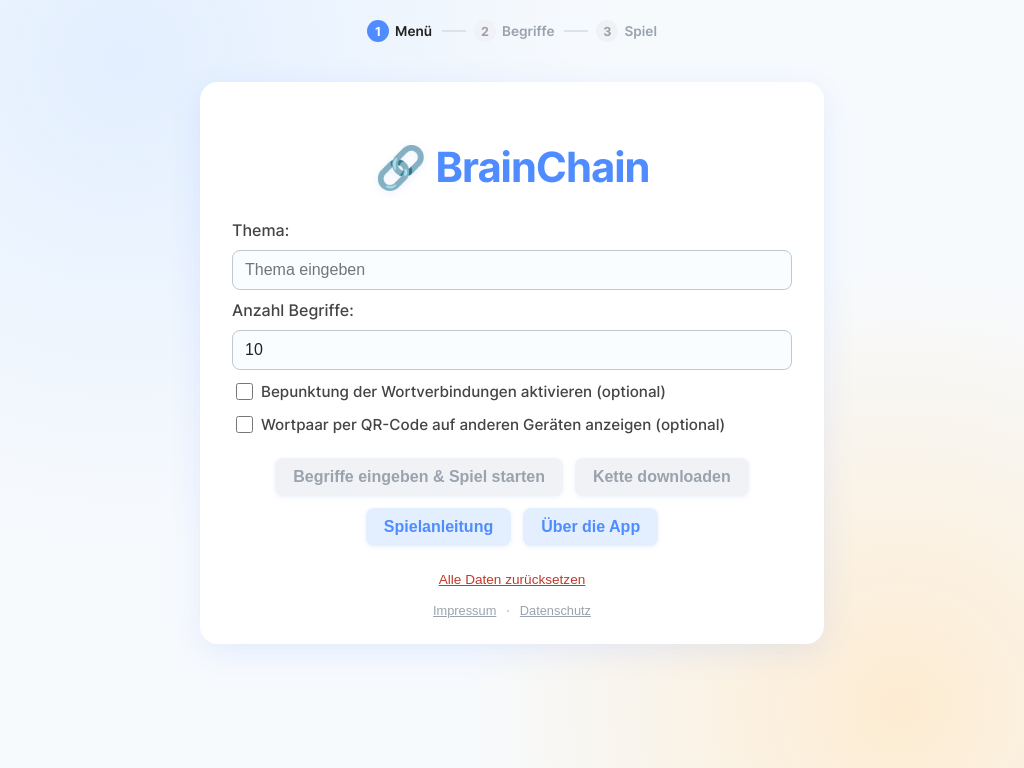
Scenario: ein Begriff wird case-insensitive als Duplikat abgewiesen und zeigt eine Fehlermeldung
Step 1. Type "Tiere" into the field with placeholder "Thema eingeben" → (512, 270), box [232,250,792,290]
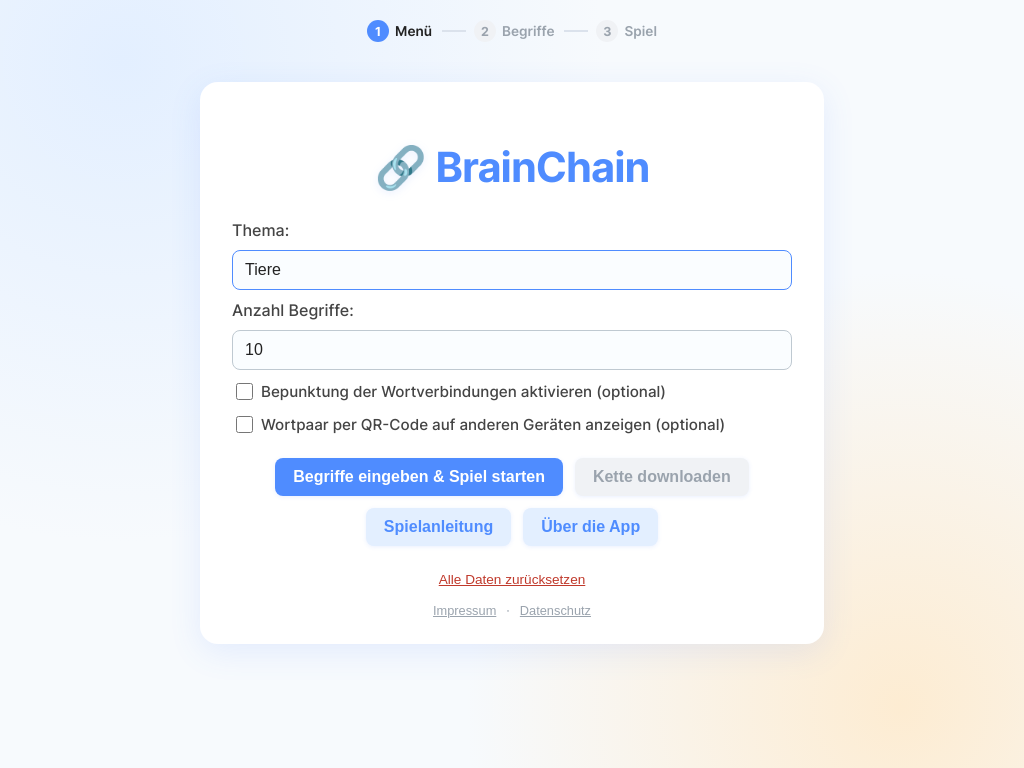
Step 2. Click the button "Begriffe eingeben & Spiel starten" → (419, 477), box [275,458,563,496]
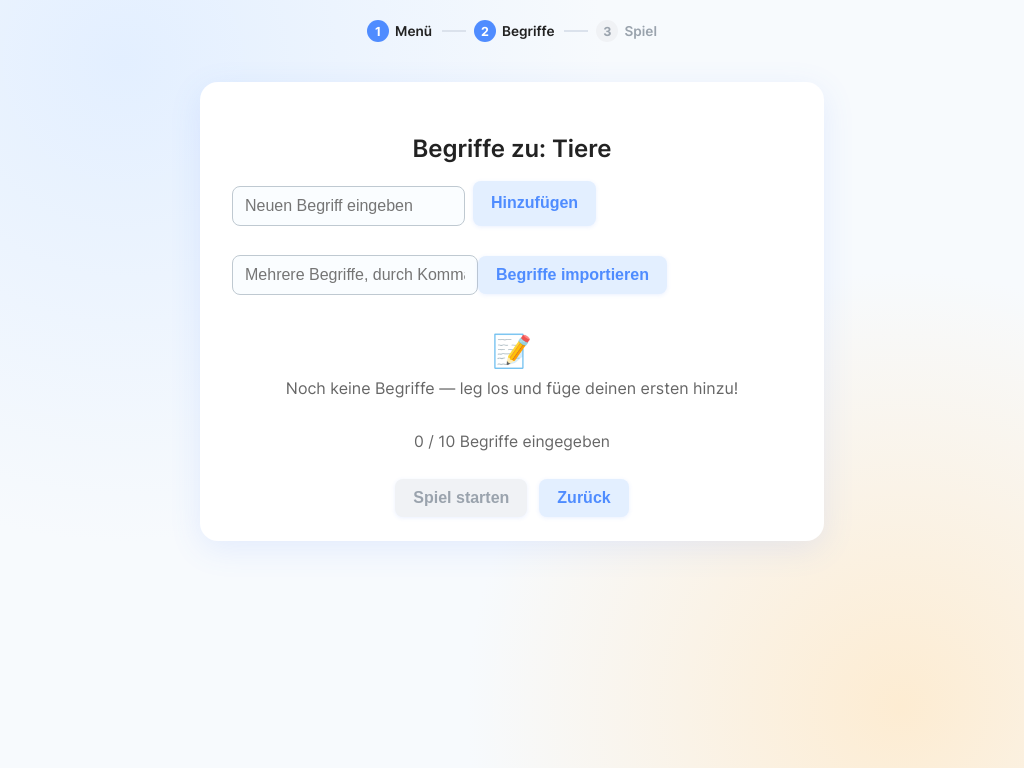
Step 3. Type "Löwe" into the field with placeholder "Neuen Begriff eingeben" → (348, 206), box [232,186,465,226]
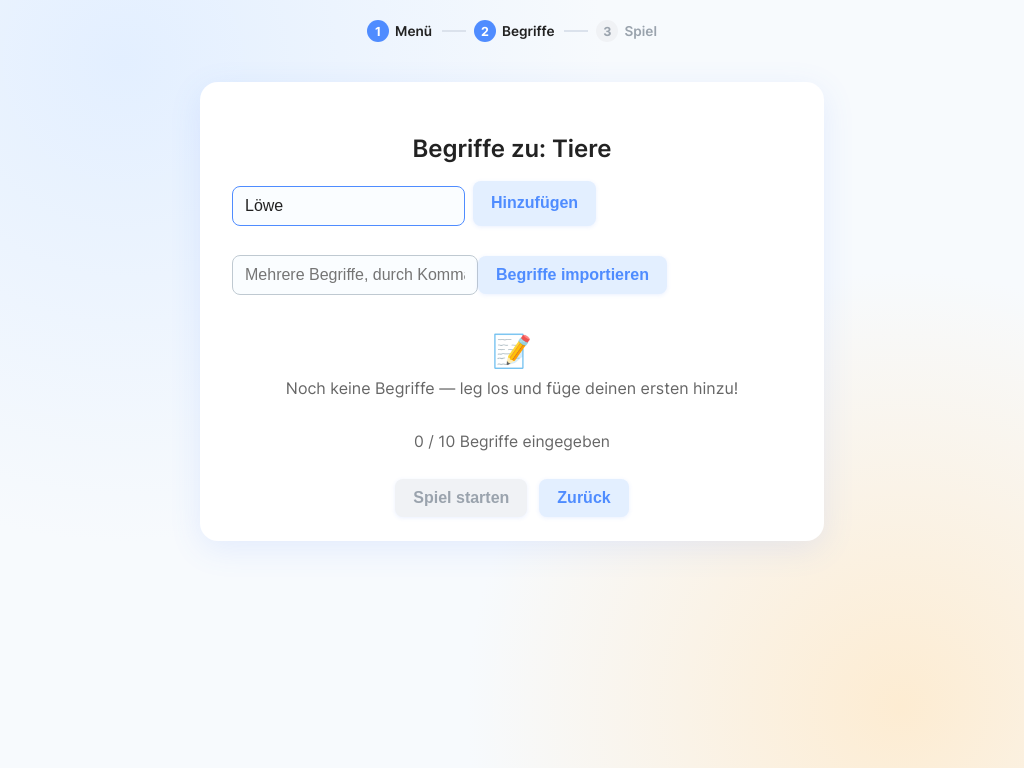
Step 4. Click the button "Hinzufügen" → (535, 203), box [473,181,596,226]
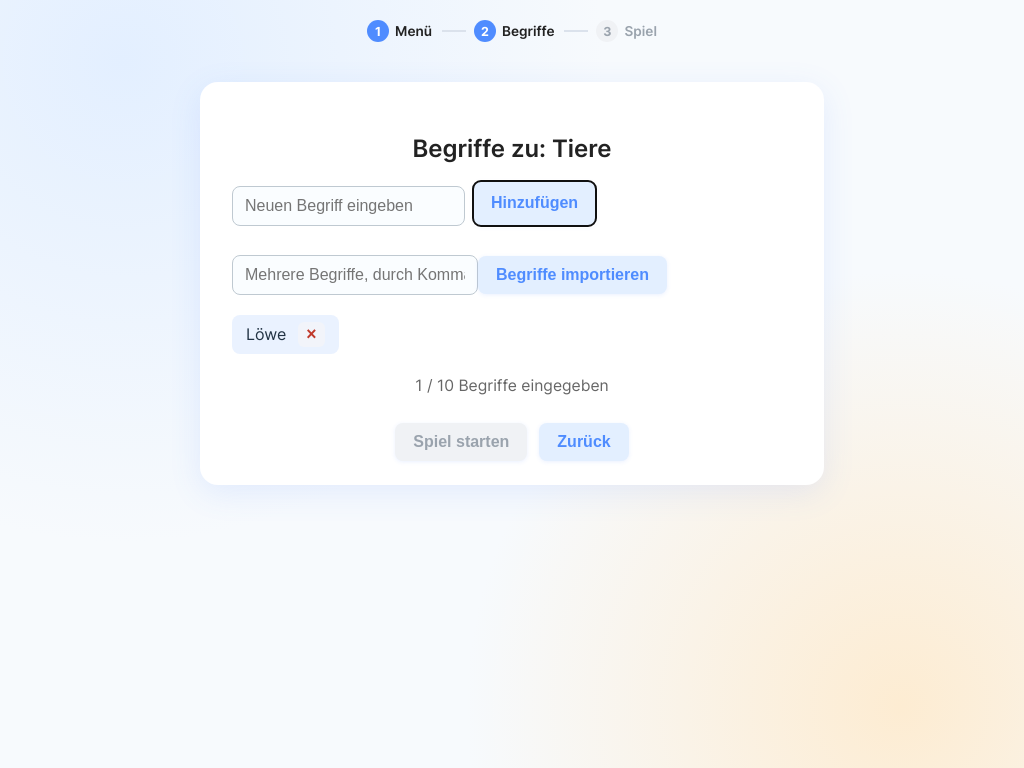
Step 5. Type "löwe" into the field with placeholder "Neuen Begriff eingeben" → (348, 206), box [232,186,465,226]
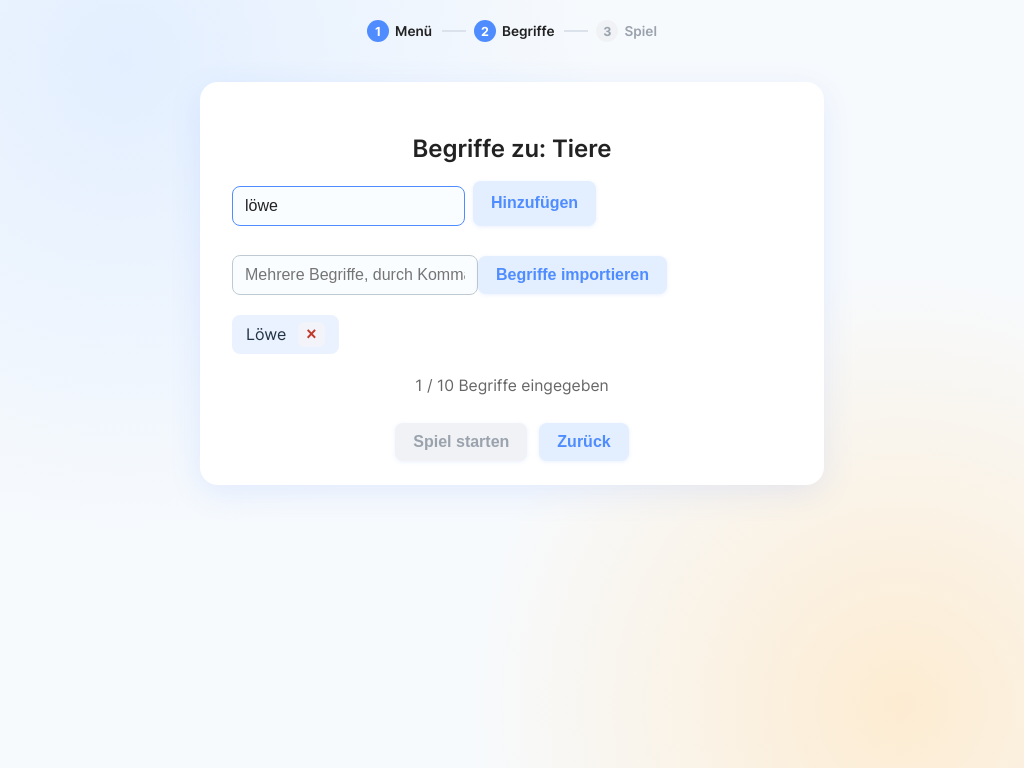
Step 6. Click the button "Hinzufügen" → (535, 203), box [473,181,596,226]
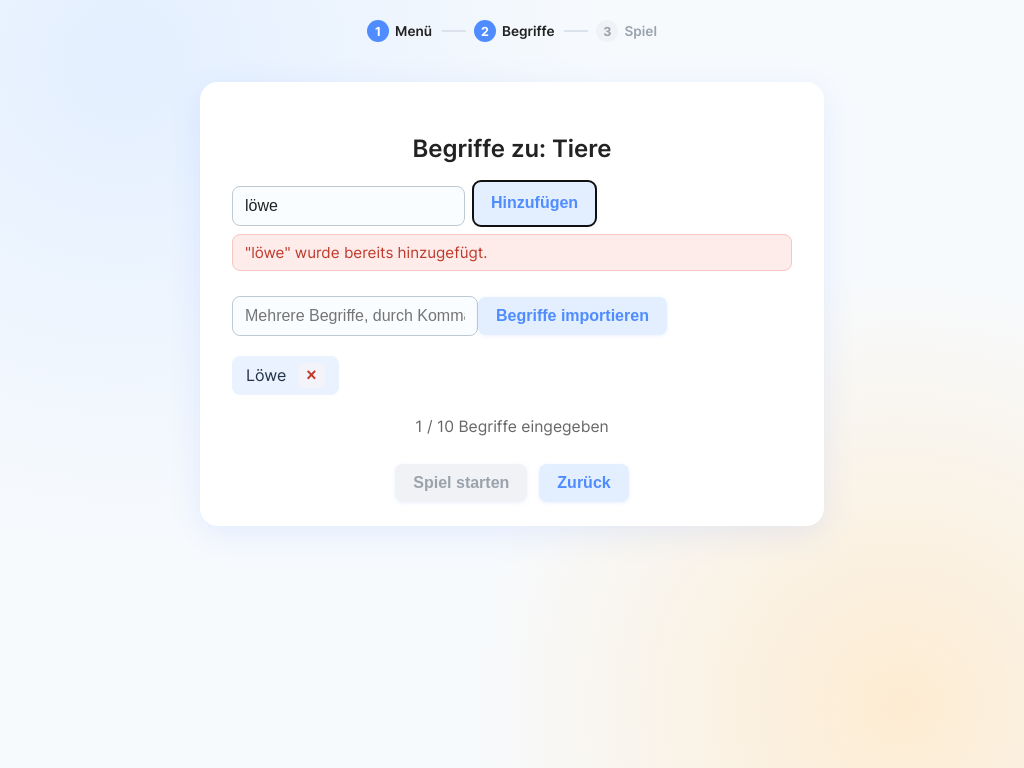
Check: the text "Löwe" is shown, box [246,365,286,385]
Check: the text "\"löwe\" wurde bereits hinzugefügt." is shown, box [232,234,792,271]
